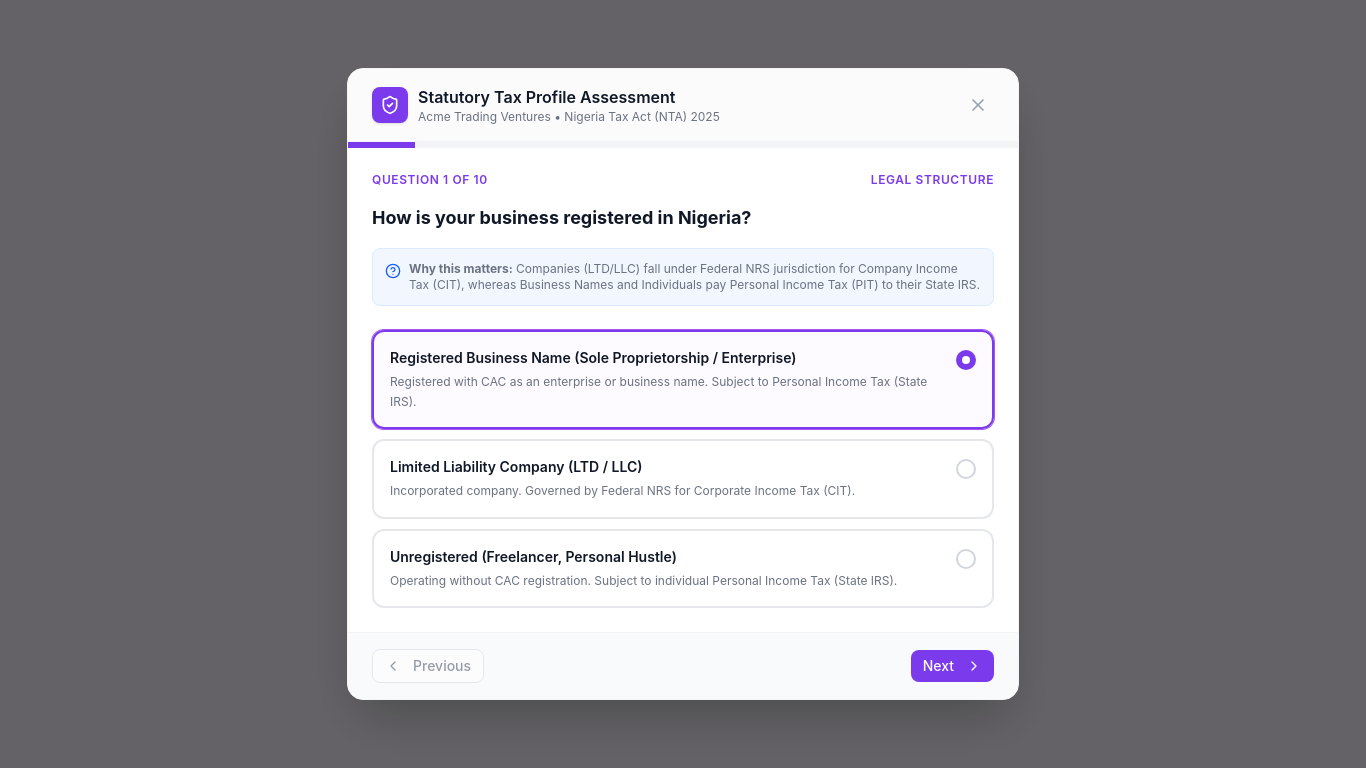
Scenario: Tax Assessment Wizard & Profile Card (NTA 2025) › TaxAssessmentModal › navigates through questions on clicking Next
Click the button "Next". click: (952, 666)
box: 911,650 -> 994,682
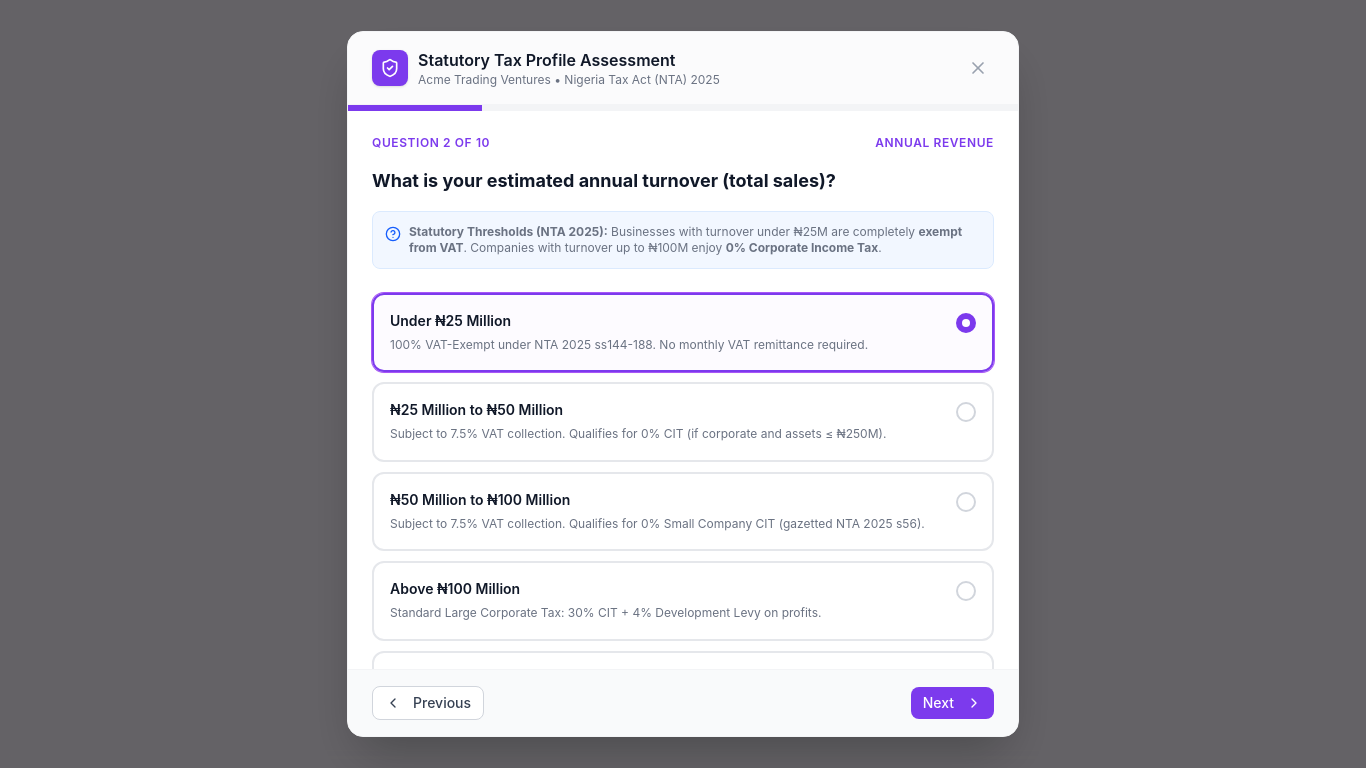
Result: the text "Question 2 of 10" is shown at 372,135 -> 490,151
Result: the heading "What is your estimated annual turnover (total sales)?" is shown at 372,170 -> 836,191
